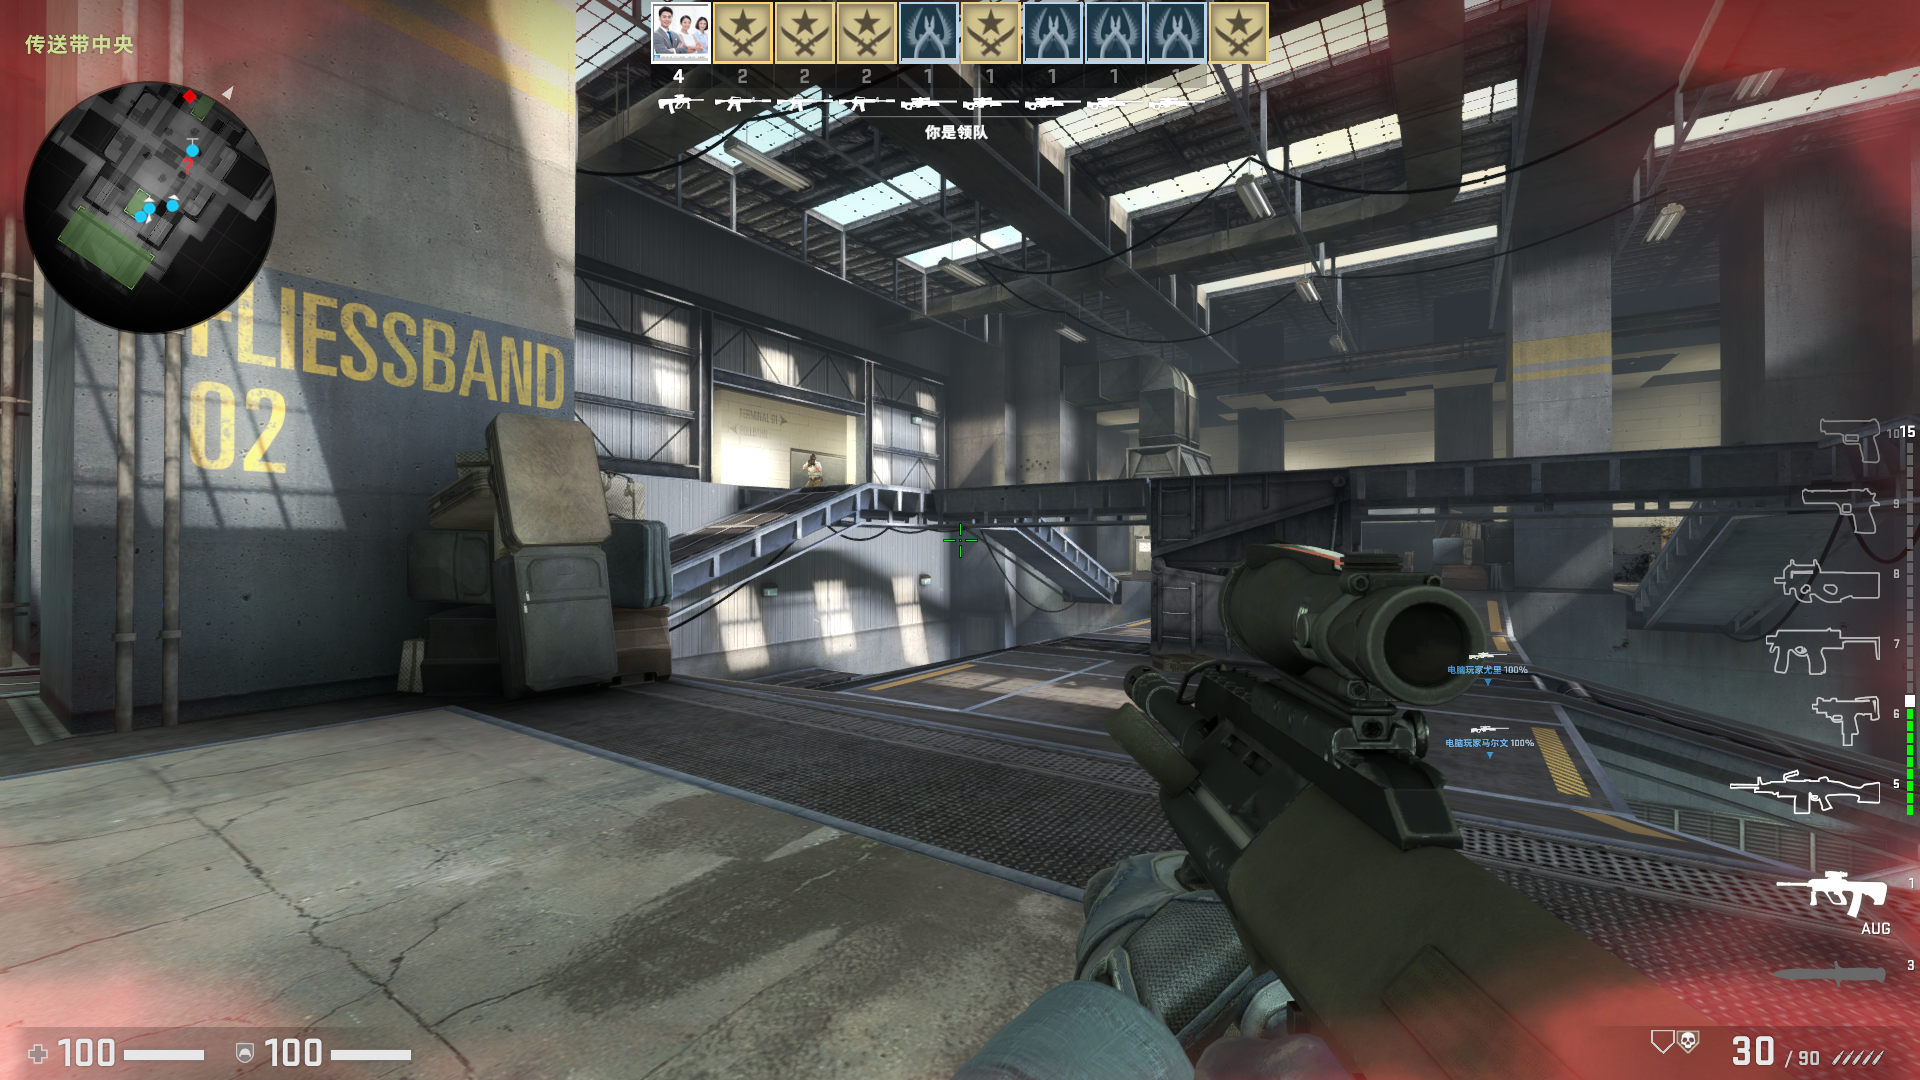person: (799, 452, 826, 490)
